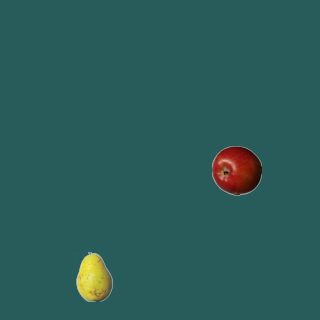Apple Braeburn: (211, 145, 261, 195)
Pear Monster: (69, 251, 119, 301)
